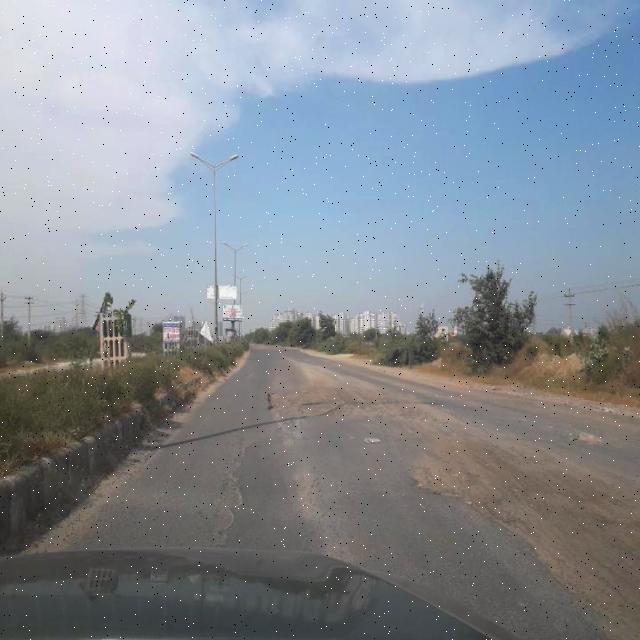D00: (213, 418, 263, 540)
D40: (412, 422, 640, 632), (260, 377, 455, 423)
